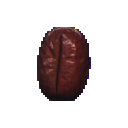ng: (30, 21, 96, 111)
